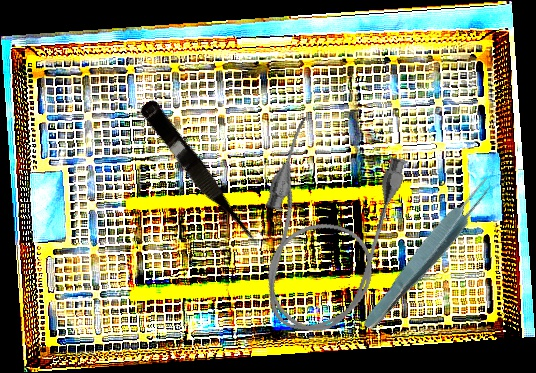Cannula: (236, 113, 412, 347)
Micro Scissor: (135, 97, 264, 254)
Tissue Forceps: (357, 172, 500, 336)
